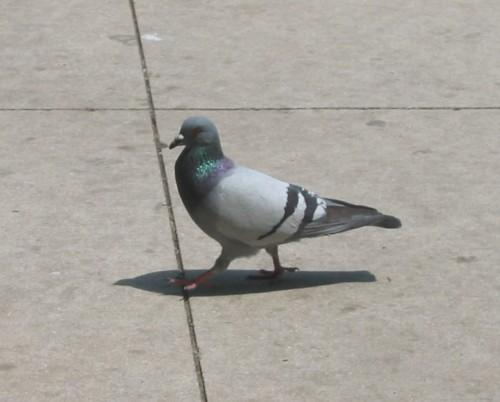Flying Rat: (168, 114, 392, 296)
